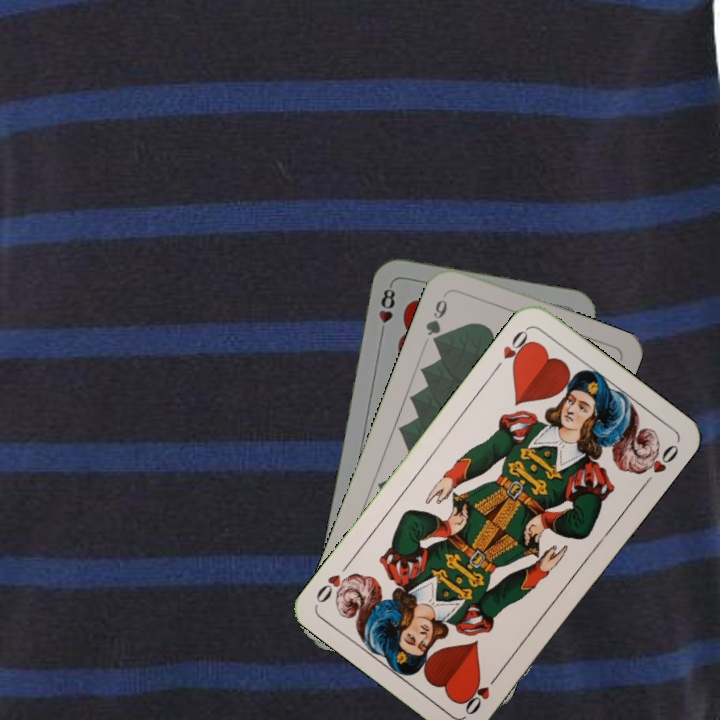G9: (421, 288, 451, 348)
H8: (375, 280, 398, 339)
HO: (489, 324, 535, 375), (459, 668, 503, 718)
